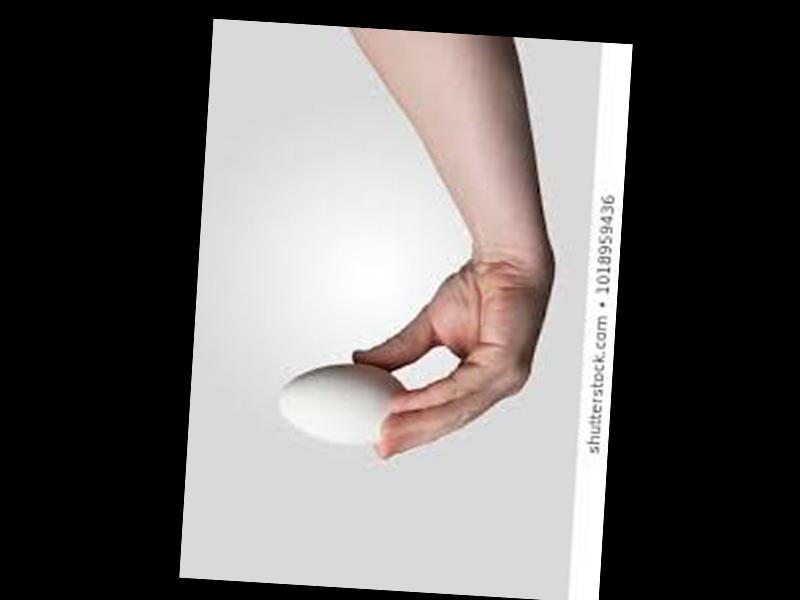Eggs: (274, 359, 409, 451)
